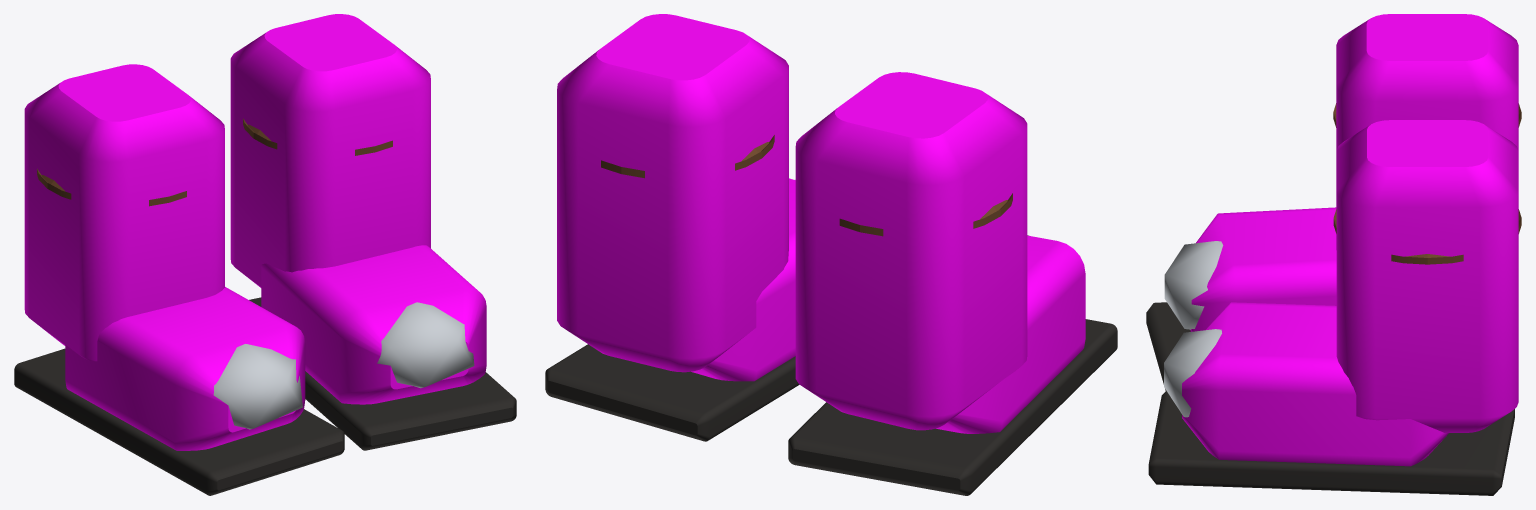
File: objet_armure1_bottes.glb
3 views of the same model, side by side, from view 1: azimuth 30°, elevation 25°; view 2: azimuth 150°, elevation 25°; view 3: azimuth 270°, elevation 25° (orthographic). The views are drawn at different scales.
Parts seen in each view (by area): view 1: bottes_teinte.008, bottes_semelle.008, bottes_rivet.004, bottes_sac_cuir.002; view 2: bottes_teinte.008, bottes_semelle.008, bottes_sac_cuir.002; view 3: bottes_teinte.008, bottes_semelle.008, bottes_rivet.004, bottes_sac_cuir.002.
Part boxes in pixels (box(x1,y1,x2,y2)): bottes_teinte.008: box(24, 14, 486, 450); bottes_semelle.008: box(14, 297, 516, 495); bottes_rivet.004: box(213, 302, 474, 429); bottes_sac_cuir.002: box(37, 118, 392, 206); bottes_teinte.008: box(557, 14, 1085, 433); bottes_semelle.008: box(545, 319, 1117, 495); bottes_sac_cuir.002: box(601, 135, 1012, 236); bottes_teinte.008: box(1182, 14, 1518, 466); bottes_semelle.008: box(1146, 302, 1514, 495); bottes_rivet.004: box(1164, 241, 1223, 417); bottes_sac_cuir.002: box(1333, 103, 1521, 264).
Size of the model in its own units: 0.2207 by 0.171 by 0.1855.
